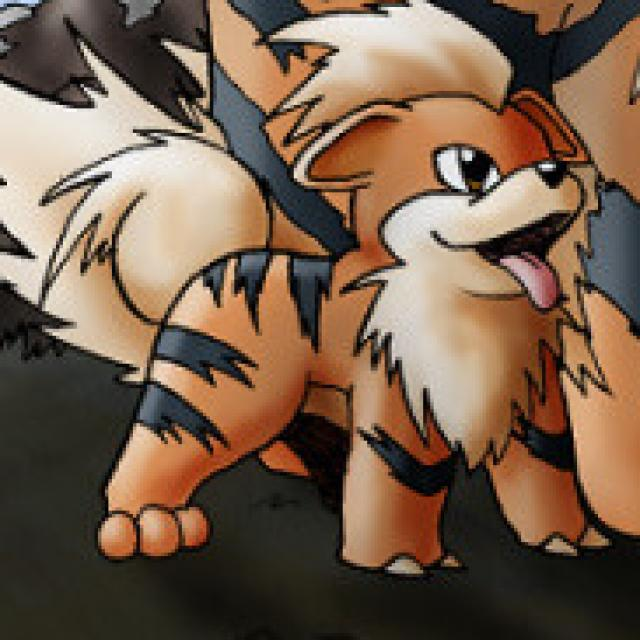Growlithe: (94, 6, 597, 573)
